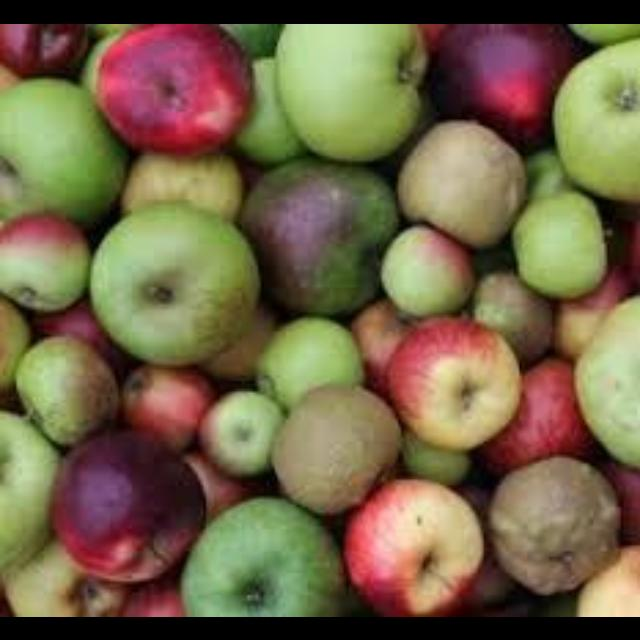apple: (93, 202, 258, 364), (52, 430, 203, 578), (275, 23, 423, 160), (181, 495, 343, 614), (0, 78, 126, 226), (387, 317, 519, 449), (398, 119, 525, 245), (552, 37, 637, 199)
